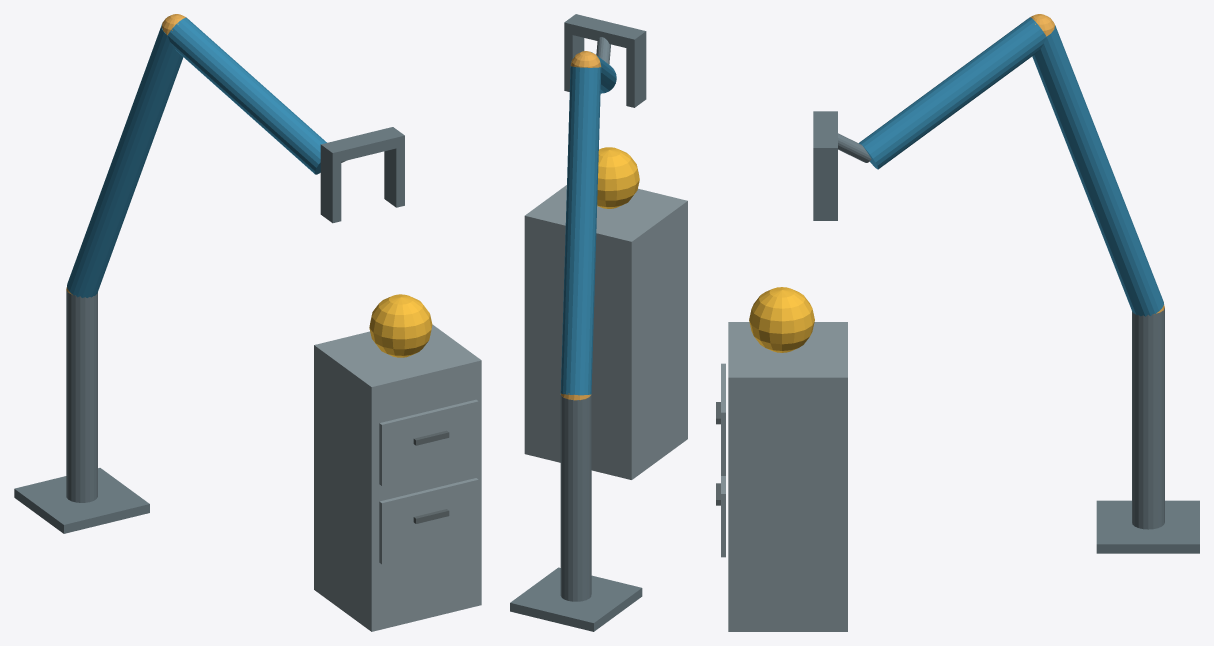
3 renders of one model, left to right at view 1: azimuth 30°, elevation 25°; view 2: azimuth 150°, elevation 25°; view 3: azimuth 270°, elevation 25°, orthographic. The views are drawn at different scales.
Parts seen in each view (by area): view 1: cabinet_1 body, moving link 1, fixed post, moving link 2, cabinet_1 drawer front, cabinet_1 drawer front.001, pedestal, ball ball_1, gripper bridge, gripper finger -1, gripper finger 1; view 2: cabinet_1 body, moving link 1, fixed post, pedestal, ball ball_1, gripper bridge, gripper finger -1, gripper finger 1, moving link 2, joint 2, gripper wrist connector; view 3: cabinet_1 body, moving link 1, moving link 2, fixed post, pedestal, ball ball_1, gripper finger 1, gripper bridge.
Part boxes in pixels (x1,y1,x2,y2): cabinet_1 body: [314, 324, 481, 631]; moving link 1: [67, 24, 183, 297]; fixed post: [66, 288, 97, 502]; moving link 2: [167, 17, 326, 174]; cabinet_1 drawer front: [379, 478, 478, 564]; cabinet_1 drawer front.001: [379, 399, 478, 485]; pedestal: [14, 468, 149, 533]; ball ball_1: [369, 294, 432, 357]; gripper bridge: [320, 127, 404, 163]; gripper finger -1: [320, 155, 341, 223]; gripper finger 1: [384, 146, 404, 207]; cabinet_1 body: [524, 185, 687, 479]; moving link 1: [560, 66, 601, 395]; fixed post: [560, 394, 591, 601]; pedestal: [510, 567, 642, 631]; ball ball_1: [597, 147, 639, 208]; gripper bridge: [564, 14, 646, 49]; gripper finger -1: [626, 42, 646, 107]; gripper finger 1: [564, 33, 584, 91]; moving link 2: [571, 52, 616, 93]; joint 2: [570, 51, 601, 67]; gripper wrist connector: [596, 37, 610, 64]; cabinet_1 body: [728, 322, 847, 631]; moving link 1: [1032, 25, 1163, 316]; moving link 2: [859, 17, 1046, 169]; fixed post: [1132, 308, 1164, 529]; pedestal: [1096, 500, 1199, 553]; ball ball_1: [749, 287, 814, 352]; gripper finger 1: [813, 159, 837, 220]; gripper bridge: [813, 111, 837, 159].
Size of the model in its own units: 0.6992 by 1.44 by 1.17.
